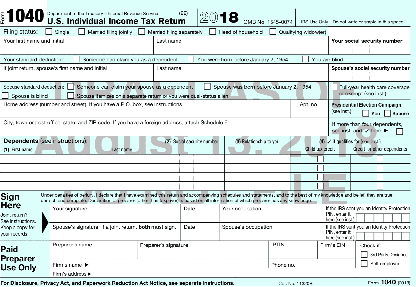checkbox: (268, 27, 277, 35), (186, 55, 195, 63), (301, 55, 310, 63), (362, 109, 371, 117), (72, 55, 80, 63), (66, 91, 74, 99), (330, 83, 338, 91), (383, 109, 391, 117), (317, 164, 325, 172), (317, 173, 325, 181), (317, 182, 325, 190), (376, 155, 384, 163), (376, 164, 384, 172), (376, 173, 384, 181), (376, 182, 384, 190), (77, 28, 86, 35), (137, 28, 146, 35), (208, 28, 217, 35), (45, 28, 53, 35), (66, 83, 74, 90), (1, 92, 9, 99), (204, 83, 212, 90), (396, 128, 404, 135), (317, 155, 325, 162), (360, 251, 368, 258), (360, 260, 368, 267)
textbox: (0, 117, 329, 137), (0, 99, 291, 119), (47, 267, 411, 279), (152, 35, 330, 55), (153, 63, 330, 82), (0, 35, 155, 56), (0, 63, 155, 83), (136, 240, 270, 261), (49, 203, 182, 224), (48, 223, 182, 242), (47, 258, 269, 269), (217, 205, 324, 224), (218, 222, 325, 241), (0, 162, 160, 174), (0, 171, 160, 183), (0, 180, 160, 192), (48, 239, 138, 260), (0, 153, 160, 164), (327, 35, 412, 55), (327, 63, 411, 82), (267, 240, 319, 260), (267, 258, 357, 269), (326, 26, 412, 36), (179, 204, 221, 224), (157, 153, 226, 165), (157, 161, 226, 173), (157, 171, 226, 183), (158, 180, 227, 192), (223, 171, 292, 183), (223, 180, 292, 192), (289, 99, 330, 119), (179, 222, 220, 242), (316, 240, 357, 260), (223, 161, 291, 173), (222, 153, 291, 164), (355, 213, 411, 224), (355, 231, 411, 241)
